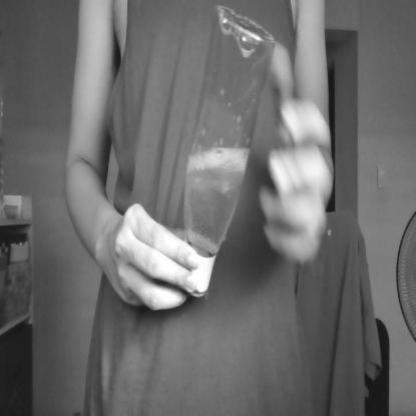Plastic Bottle: (175, 9, 277, 313)
